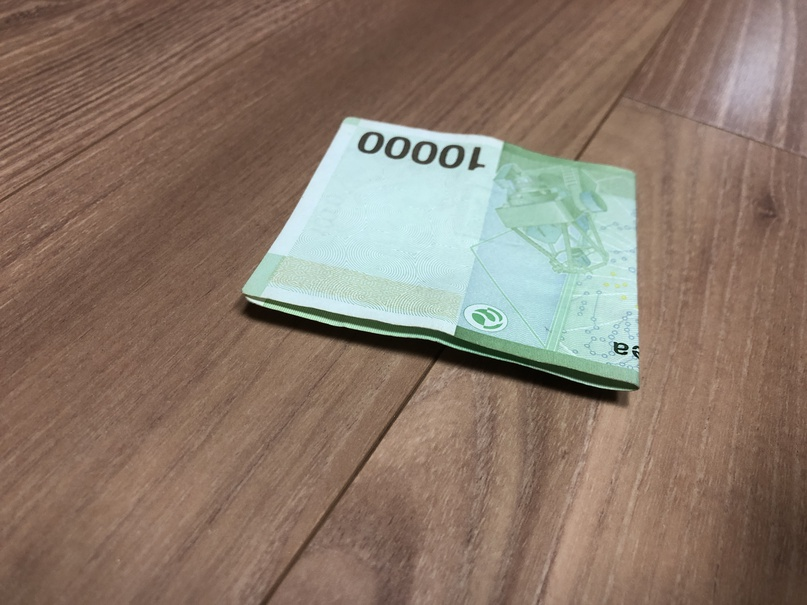10000won: (242, 116, 640, 396)
